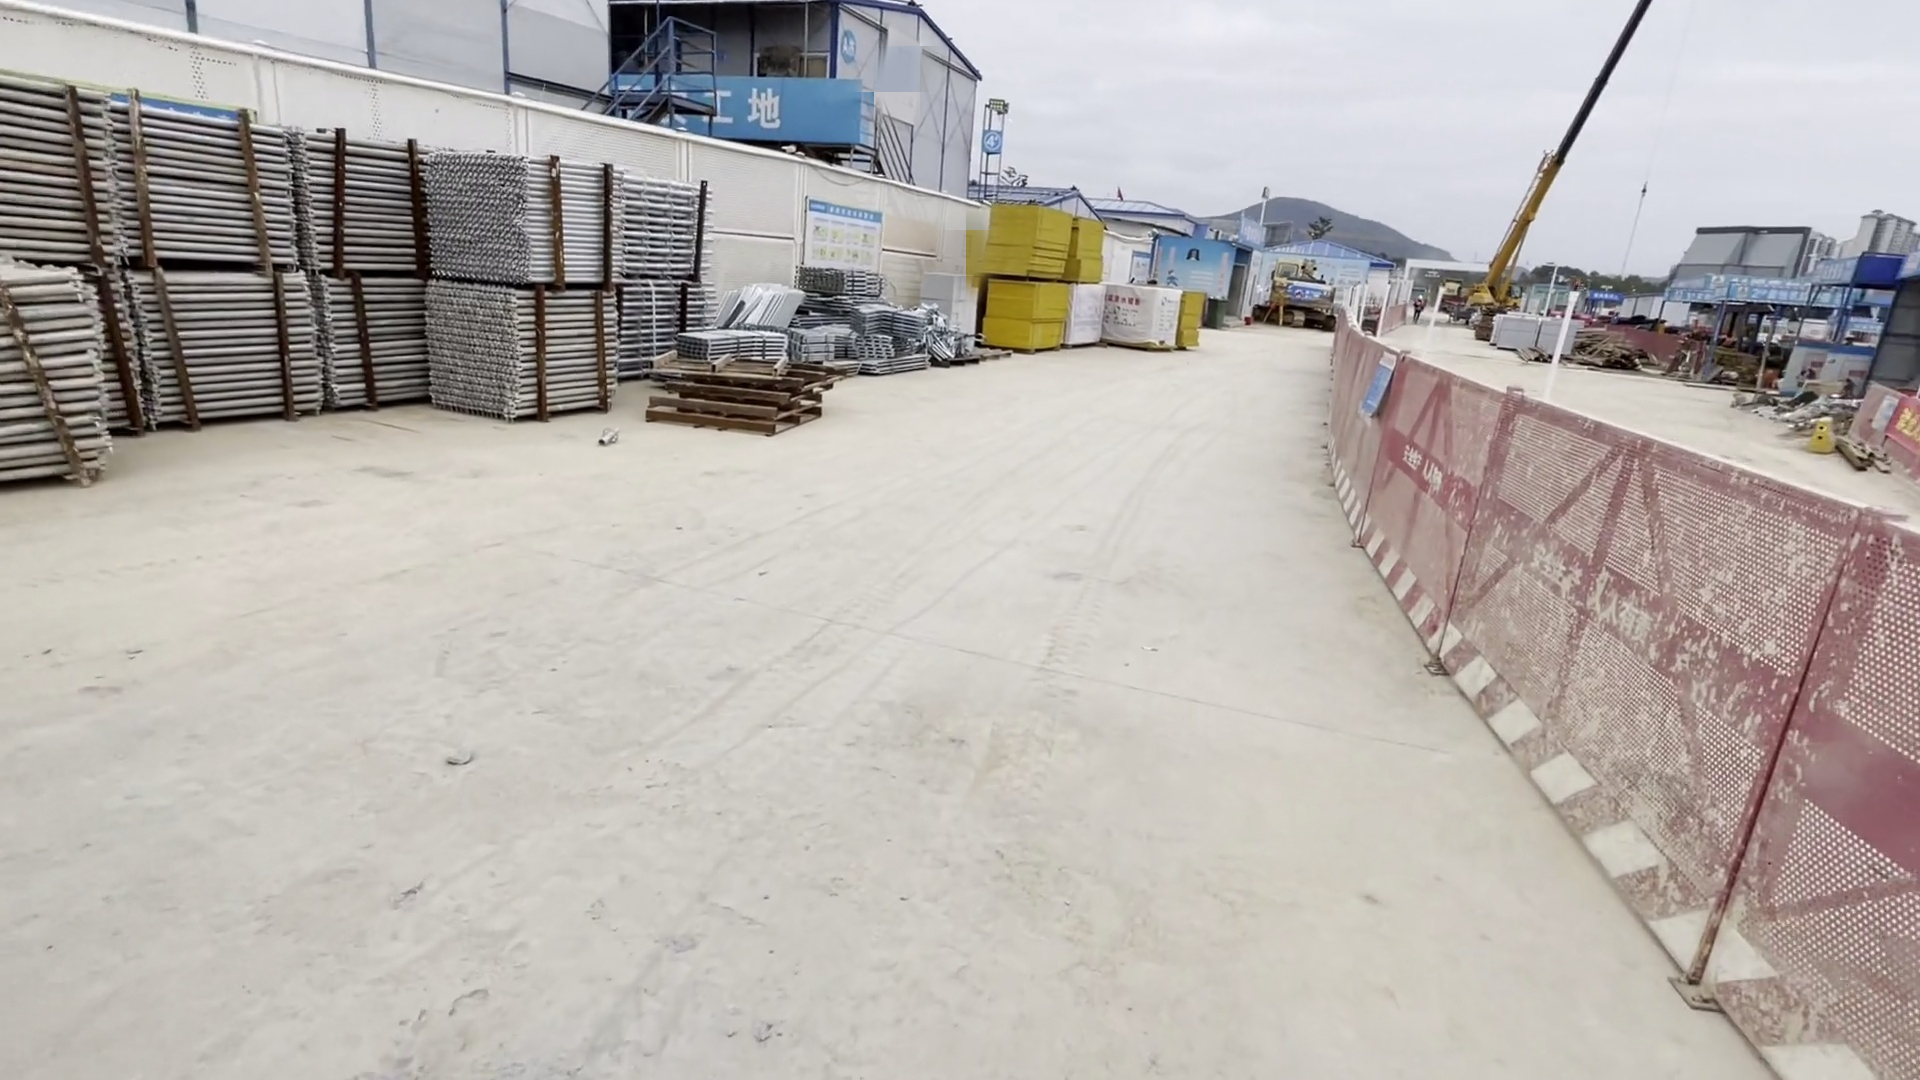board: (984, 200, 1075, 364)
fence: (1321, 327, 1920, 1073)
scaffold: (4, 80, 704, 483)
